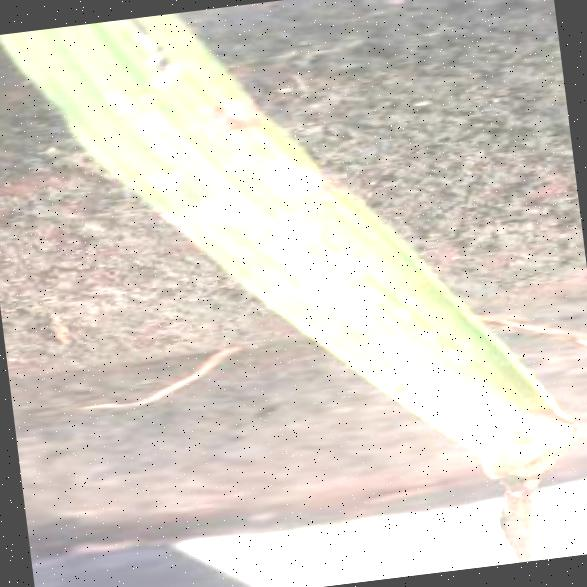Leaf_smut: (187, 73, 266, 152), (264, 140, 354, 206), (182, 177, 268, 243), (120, 147, 183, 206)
